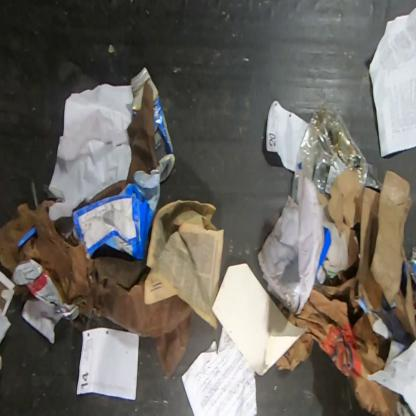cardboard: (314, 168, 415, 343), (73, 163, 161, 259)
metal: (131, 67, 176, 183)
rigid_plastic: (289, 109, 382, 203)
